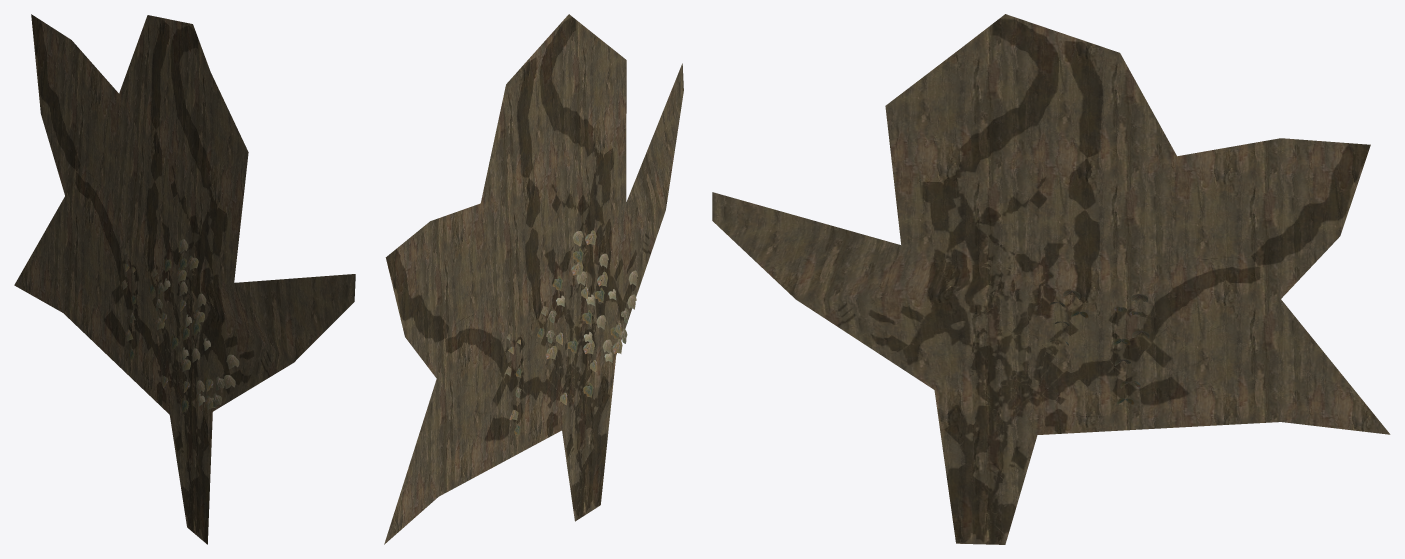
File: SM_Ivy_4.fbx
3 views of the same model, side by side, from view 1: azimuth 30°, elevation 25°; view 2: azimuth 150°, elevation 25°; view 3: azimuth 270°, elevation 25° (orthographic). The views are drawn at different scales.
Parts seen in each view (by area): view 1: SM_Ivy_4_LOD0; view 2: SM_Ivy_4_LOD0; view 3: SM_Ivy_4_LOD0.
Boxes of the visible parts, box(x1,y1,x2,y2) form: SM_Ivy_4_LOD0: box(14, 14, 355, 544); SM_Ivy_4_LOD0: box(384, 14, 683, 544); SM_Ivy_4_LOD0: box(712, 14, 1390, 544).
Size of the model in its own units: 33.27 by 417 by 362.
